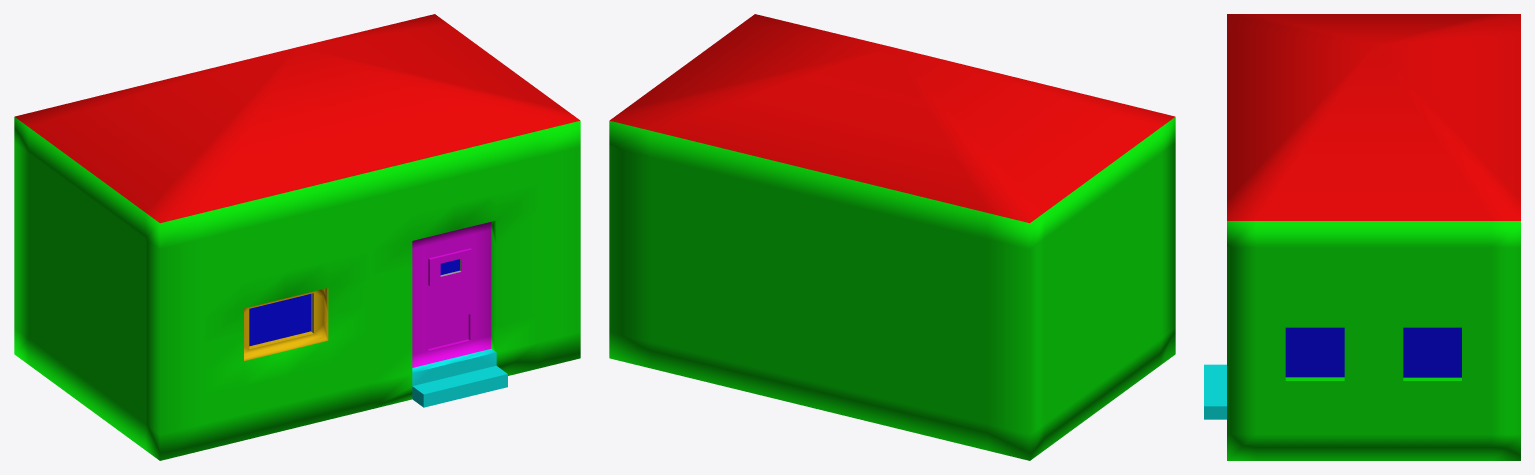
File: Basic House.fbx
3 views of the same model, side by side, from view 1: azimuth 30°, elevation 25°; view 2: azimuth 150°, elevation 25°; view 3: azimuth 270°, elevation 25° (orthographic).
Parts seen in each view (by area): view 1: pCube1; view 2: pCube1; view 3: pCube1.
Part boxes in pixels (bbox=[...]): pCube1: bbox=[14, 14, 580, 460]; pCube1: bbox=[609, 14, 1175, 460]; pCube1: bbox=[1204, 14, 1520, 460].
Bounding box in the file's own units: 5 × 3.51 × 3.23.
